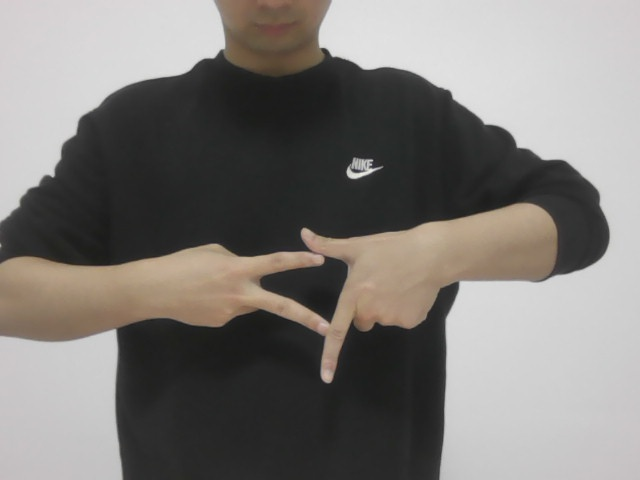introduce: (167, 216, 461, 395)
